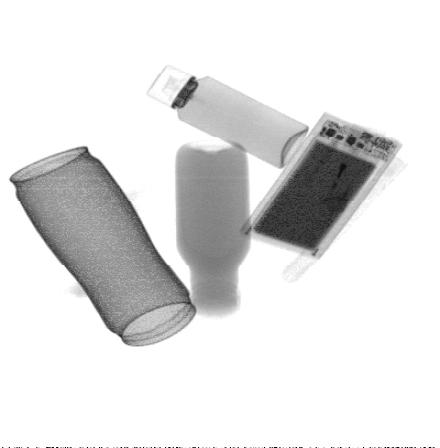Lighter: (316, 130, 376, 200)
Powerbank: (239, 111, 403, 261)
Sprayer: (148, 64, 309, 169)
